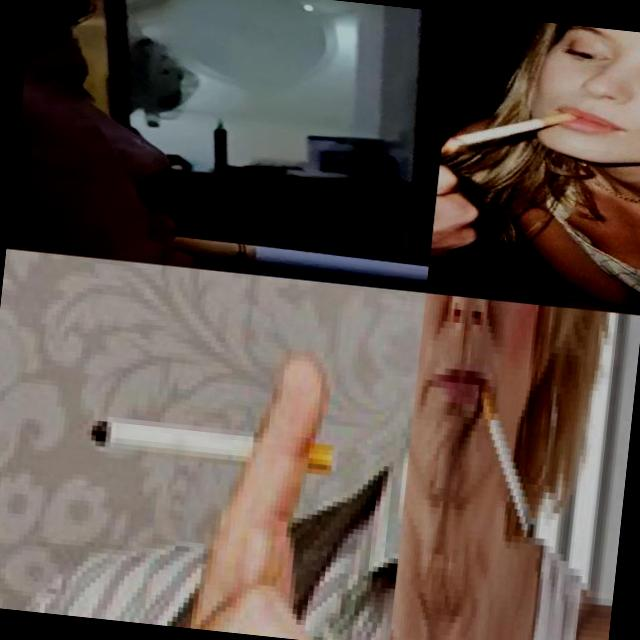smoke: (458, 370, 551, 546), (80, 409, 334, 471), (166, 233, 428, 286), (455, 101, 575, 156)
